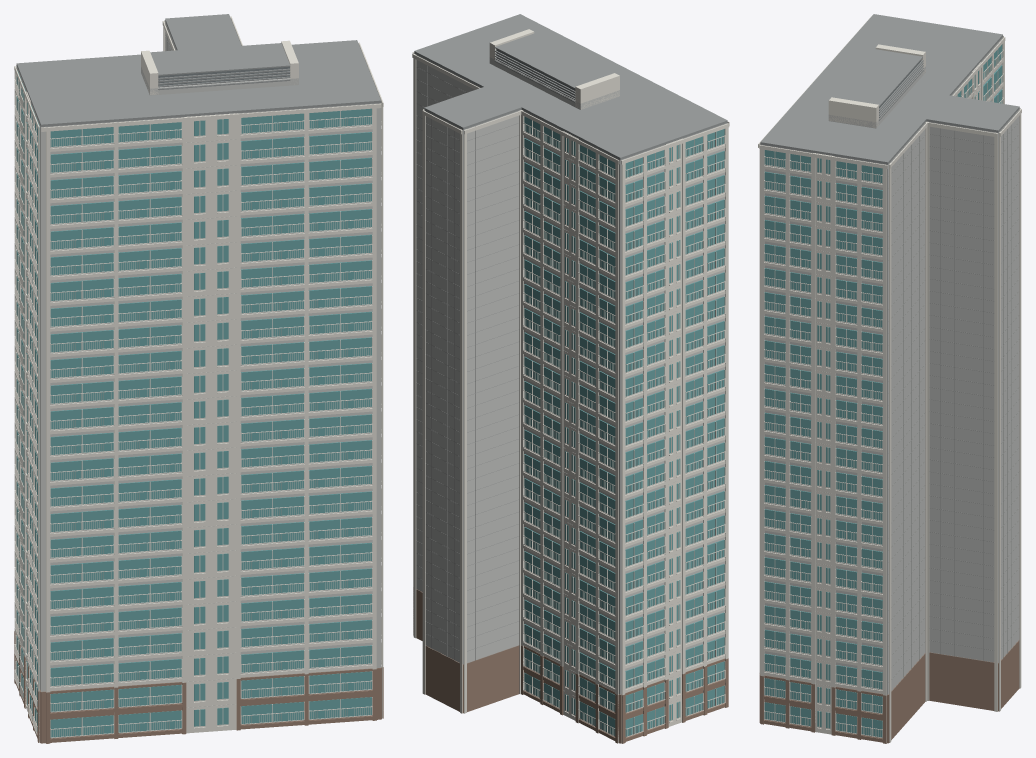
File: bespoke-jamsil-els-104.glb
3 views of the same model, side by side, from view 1: azimuth 30°, elevation 25°; view 2: azimuth 150°, elevation 25°; view 3: azimuth 270°, elevation 25° (orthographic). The views are drawn at different scales.
Parts seen in each view (by area): view 1: Els104_editable_Els104_turquoise_balcony_glazing002, Els104_white_exact_chunk_2, Els104_white_exact_chunk_3, Els104_editable_Els104_light_grey_solid_wall002, Els104_editable_Els104_modest_grey_flat_roof_caps002, Els104_white_exact_chunk_4, Els104_white_exact_chunk_1, Els104_editable_Els104_muted_ground_wall002, Els104_white_exact_chunk_5, Els104_editable_Els104_narrow_charcoal_service_strips002; view 2: Els104_editable_Els104_light_grey_solid_wall002, Els104_editable_Els104_turquoise_balcony_glazing002, Els104_white_exact_chunk_1, Els104_white_exact_chunk_0, Els104_editable_Els104_modest_grey_flat_roof_caps002, Els104_white_exact_chunk_5, Els104_editable_Els104_muted_ground_wall002, Els104_white_exact_chunk_2; view 3: Els104_editable_Els104_light_grey_solid_wall002, Els104_editable_Els104_turquoise_balcony_glazing002, Els104_white_exact_chunk_4, Els104_editable_Els104_modest_grey_flat_roof_caps002, Els104_white_exact_chunk_5, Els104_editable_Els104_muted_ground_wall002, Els104_white_exact_chunk_1, Els104_white_exact_chunk_0.
Boxes of the visible parts, x1=… form: Els104_editable_Els104_turquoise_balcony_glazing002: x1=16, y1=70, x2=371, y2=737; Els104_white_exact_chunk_2: x1=14, y1=66, x2=237, y2=742; Els104_white_exact_chunk_3: x1=46, y1=113, x2=372, y2=738; Els104_editable_Els104_light_grey_solid_wall002: x1=16, y1=22, x2=381, y2=707; Els104_editable_Els104_modest_grey_flat_roof_caps002: x1=16, y1=14, x2=381, y2=126; Els104_white_exact_chunk_4: x1=41, y1=76, x2=383, y2=718; Els104_white_exact_chunk_1: x1=14, y1=65, x2=37, y2=734; Els104_editable_Els104_muted_ground_wall002: x1=14, y1=631, x2=383, y2=743; Els104_white_exact_chunk_5: x1=141, y1=16, x2=383, y2=106; Els104_editable_Els104_narrow_charcoal_service_strips002: x1=158, y1=66, x2=289, y2=85; Els104_editable_Els104_light_grey_solid_wall002: x1=414, y1=53, x2=727, y2=702; Els104_editable_Els104_turquoise_balcony_glazing002: x1=524, y1=116, x2=724, y2=736; Els104_white_exact_chunk_1: x1=520, y1=110, x2=725, y2=743; Els104_white_exact_chunk_0: x1=521, y1=110, x2=615, y2=736; Els104_editable_Els104_modest_grey_flat_roof_caps002: x1=414, y1=14, x2=727, y2=663; Els104_white_exact_chunk_5: x1=412, y1=29, x2=619, y2=713; Els104_editable_Els104_muted_ground_wall002: x1=413, y1=587, x2=728, y2=743; Els104_white_exact_chunk_2: x1=621, y1=123, x2=729, y2=722; Els104_editable_Els104_light_grey_solid_wall002: x1=760, y1=37, x2=1019, y2=710; Els104_editable_Els104_turquoise_balcony_glazing002: x1=764, y1=44, x2=1002, y2=737; Els104_white_exact_chunk_4: x1=758, y1=16, x2=882, y2=738; Els104_editable_Els104_modest_grey_flat_roof_caps002: x1=760, y1=14, x2=1019, y2=691; Els104_white_exact_chunk_5: x1=759, y1=44, x2=1021, y2=743; Els104_editable_Els104_muted_ground_wall002: x1=759, y1=640, x2=1019, y2=743; Els104_white_exact_chunk_1: x1=952, y1=37, x2=1005, y2=103; Els104_white_exact_chunk_0: x1=956, y1=56, x2=993, y2=101.
Size of the model in its own units: 35.1 by 65.55 by 26.06.
